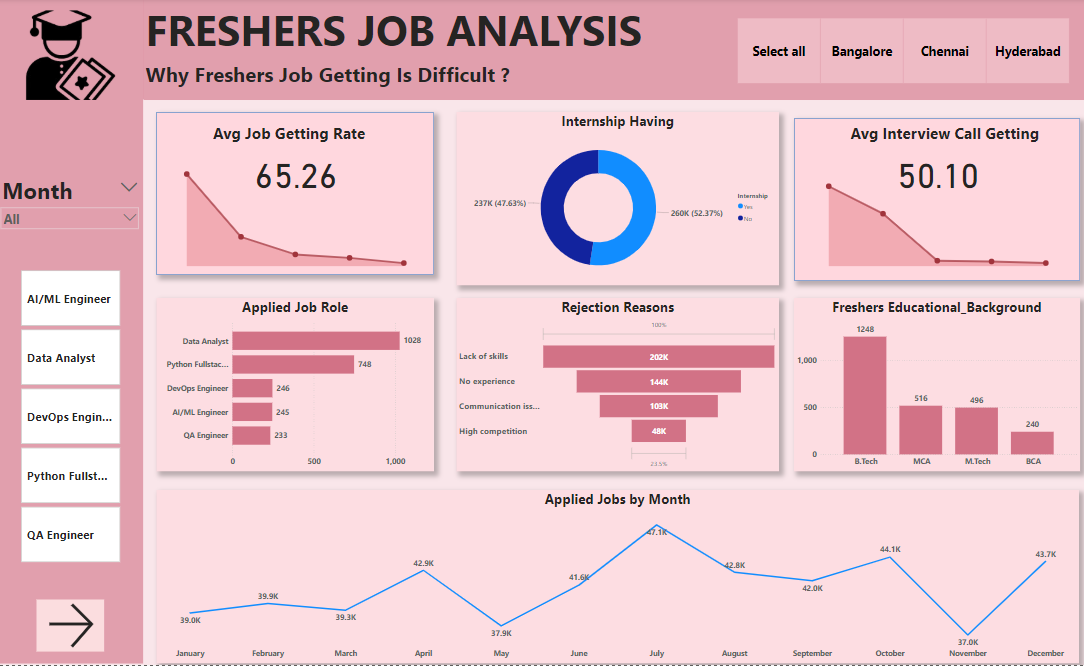

Layout of this report page (visuals, bound fields, positions):
{"tool":"powerbi","page":{"name":"Dashboard","canvas":[2300,1400],"ordinal":0},"visuals":[{"type":"shape","box":[309.3,0,1990.7,214.7],"z":0},{"type":"shape","box":[0,0,309.3,1397.5],"z":1000},{"type":"textbox","box":[309.3,0,1222.8,145.6],"z":2000},{"type":"slicer","fields":{"Values":["Freshers_job_Analysis.City"]},"box":[1532.1,36.4,742.4,145.6],"z":3000},{"type":"clusteredBarChart","title":"Applied Job Role","fields":{"Category":["Freshers_job_Analysis.Role"],"Y":["CountNonNull(Freshers_job_Analysis.Name)"]},"box":[338.4,629.6,582.3,363.9],"z":4000},{"type":"clusteredColumnChart","title":"Freshers Educational_Background","fields":{"Category":["Freshers_job_Analysis.Educational_Background"],"Y":["CountNonNull(Freshers_job_Analysis.Name)"]},"box":[1674.1,629.6,600.5,363.9],"z":5000},{"type":"lineChart","title":"Applied Jobs by Month","fields":{"Category":["Freshers_job_Analysis.Date.Variation.Date Hierarchy.Month"],"Y":["Sum(Freshers_job_Analysis.Applied Jobs)"]},"box":[338.4,1033.5,1936.1,363.9],"z":6000},{"type":"donutChart","title":" Internship Having","fields":{"Y":["Sum(Freshers_job_Analysis.Applied Jobs)"],"Category":["Freshers_job_Analysis.Internship"]},"box":[968,240.2,676.9,363.9],"z":7000},{"type":"shape","box":[338.4,240.2,582.3,342.1],"z":8000},{"type":"funnel","title":"Rejection Reasons","fields":{"Y":["Sum(Freshers_job_Analysis.Applied Jobs)"],"Category":["Freshers_job_Analysis.Rejection_Reasons"]},"box":[968,629.6,676.9,363.9],"z":9000},{"type":"card","fields":{"Values":["Avg(Freshers_job_Analysis.Placement_Statistics (%))"]},"box":[520.4,302.1,218.4,120.1],"z":10000},{"type":"shape","box":[1674.1,251.1,600.5,342.1],"z":11000},{"type":"textbox","box":[451.3,254.7,353,61.9],"z":12000},{"type":"textbox","box":[1786.9,254.7,425.8,65.5],"z":13000},{"type":"areaChart","fields":{"Category":["Freshers_job_Analysis.Role"],"Y":["Avg(Freshers_job_Analysis.Placement_Statistics (%))"]},"box":[349.4,349.4,556.8,218.4],"z":14000},{"type":"card","fields":{"Values":["Avg(Freshers_job_Analysis.Getting Interview call)"]},"box":[1866.9,302.1,218.4,120.1],"z":15000},{"type":"areaChart","fields":{"Category":["Freshers_job_Analysis.Role"],"Y":["Sum(Freshers_job_Analysis.Getting Interview call)"]},"box":[1695.9,349.4,556.8,218.4],"z":16000},{"type":"actionButton","box":[83.7,1262.8,141.9,109.2],"z":17000},{"type":"image","box":[47.3,0,218.4,240.2],"z":18000},{"type":"textbox","box":[309.3,120.1,840.7,94.6],"z":19000},{"type":"slicer","fields":{"Values":["Freshers_job_Analysis.MOnth"]},"box":[0,363.9,309.3,138.3],"z":20000},{"type":"advancedSlicerVisual","fields":{"Values":["Freshers_job_Analysis.Role"]},"box":[47.3,567.7,218.4,622.3],"z":21000}]}

Visuals, with their boxes in screenshot pixels (x1, y1, x2, y2), scaled from the page's 2300x1400 canvas onto the 1084x666 screenshot:
shape: bbox=(146, 0, 1083, 102)
shape: bbox=(0, 0, 146, 665)
textbox: bbox=(146, 0, 722, 69)
slicer - Freshers_job_Analysis.City: bbox=(722, 17, 1072, 87)
"Applied Job Role" clusteredBarChart: bbox=(159, 300, 434, 473)
"Freshers Educational_Background" clusteredColumnChart: bbox=(789, 300, 1072, 473)
"Applied Jobs by Month" lineChart: bbox=(159, 492, 1072, 665)
" Internship Having" donutChart: bbox=(456, 114, 775, 287)
shape: bbox=(159, 114, 434, 277)
"Rejection Reasons" funnel: bbox=(456, 300, 775, 473)
card - Avg(Freshers_job_Analysis.Placement_Statistics (%)): bbox=(245, 144, 348, 201)
shape: bbox=(789, 119, 1072, 282)
textbox: bbox=(213, 121, 379, 151)
textbox: bbox=(842, 121, 1043, 152)
areaChart - Freshers_job_Analysis.Role x Avg(Freshers_job_Analysis.Placement_Statistics (%)): bbox=(165, 166, 427, 270)
card - Avg(Freshers_job_Analysis.Getting Interview call): bbox=(880, 144, 983, 201)
areaChart - Freshers_job_Analysis.Role x Sum(Freshers_job_Analysis.Getting Interview call): bbox=(799, 166, 1062, 270)
actionButton: bbox=(39, 601, 106, 653)
image: bbox=(22, 0, 125, 114)
textbox: bbox=(146, 57, 542, 102)
slicer - Freshers_job_Analysis.MOnth: bbox=(0, 173, 146, 239)
advancedSlicerVisual - Freshers_job_Analysis.Role: bbox=(22, 270, 125, 566)
